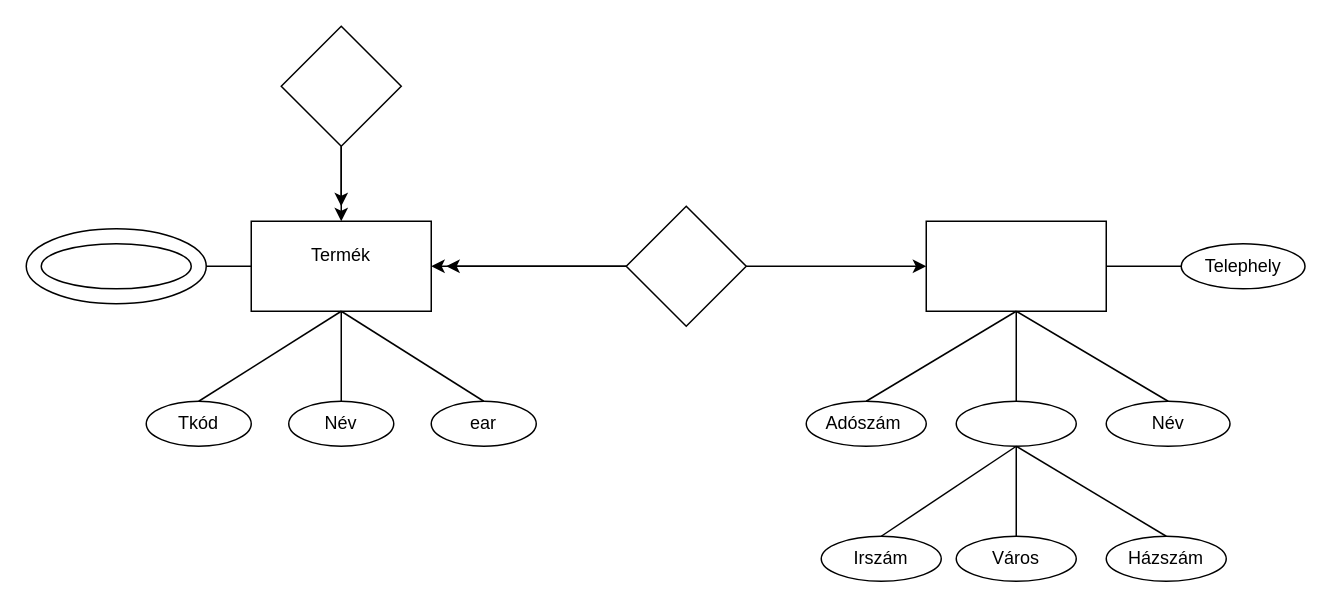
Some shapes in this 1332 by 608 pixel diagram are drawn without their labels. The box of each missing label's shape, as (x1, y1, x2, y2) in pixels:
Egység_db: (40, 242, 191, 289)
Gyártó: (925, 220, 1106, 311)
Postacím: (955, 400, 1076, 446)
T-GY: (625, 205, 746, 326)
T_A: (280, 25, 401, 146)
